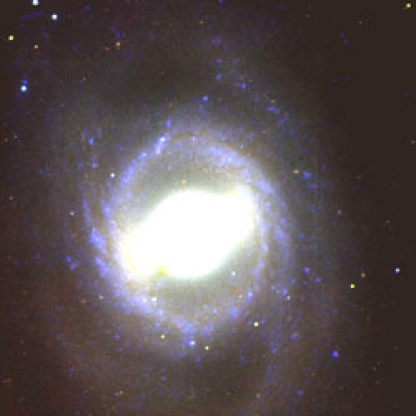Messier 95: (42, 87, 345, 370)
